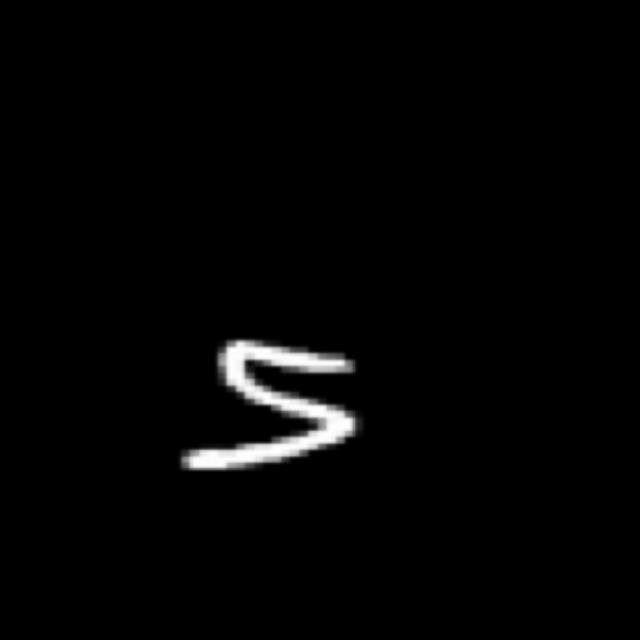five -5-: (172, 334, 371, 484)
